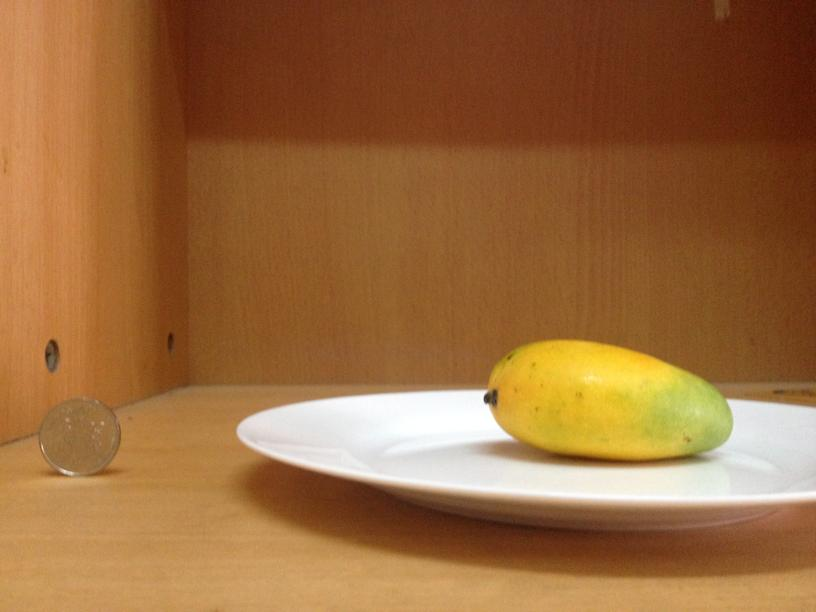coin: (35, 396, 122, 476)
mango: (481, 340, 735, 460)
